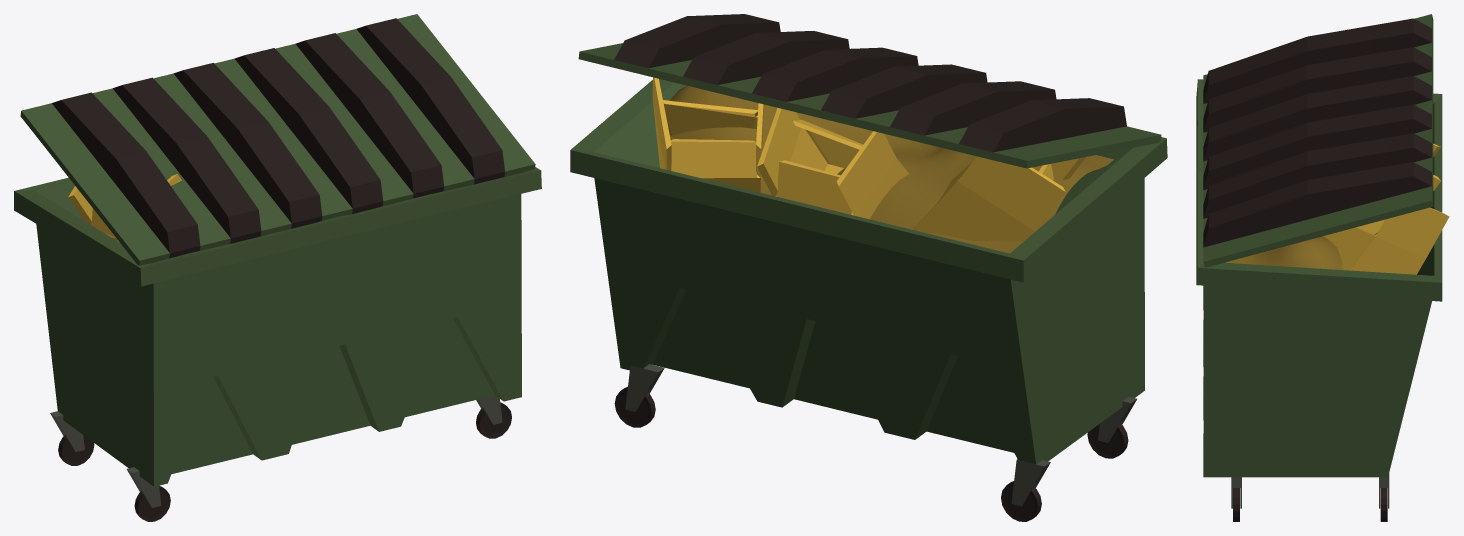
File: Dumpster4 3.fbx
The picture shows the model from 3 angles, left to right: view 1: azimuth 30°, elevation 25°; view 2: azimuth 150°, elevation 25°; view 3: azimuth 270°, elevation 25°; orthographic projection. The views are drawn at different scales.
Parts seen in each view (by area): view 1: Cube; view 2: Cube; view 3: Cube.
Part boxes in pixels (x1,y1,x2,y2): Cube: (14, 14, 541, 521); Cube: (570, 14, 1167, 521); Cube: (1196, 14, 1449, 521).
Bounding box in the file's own units: 656 × 553 × 372.
